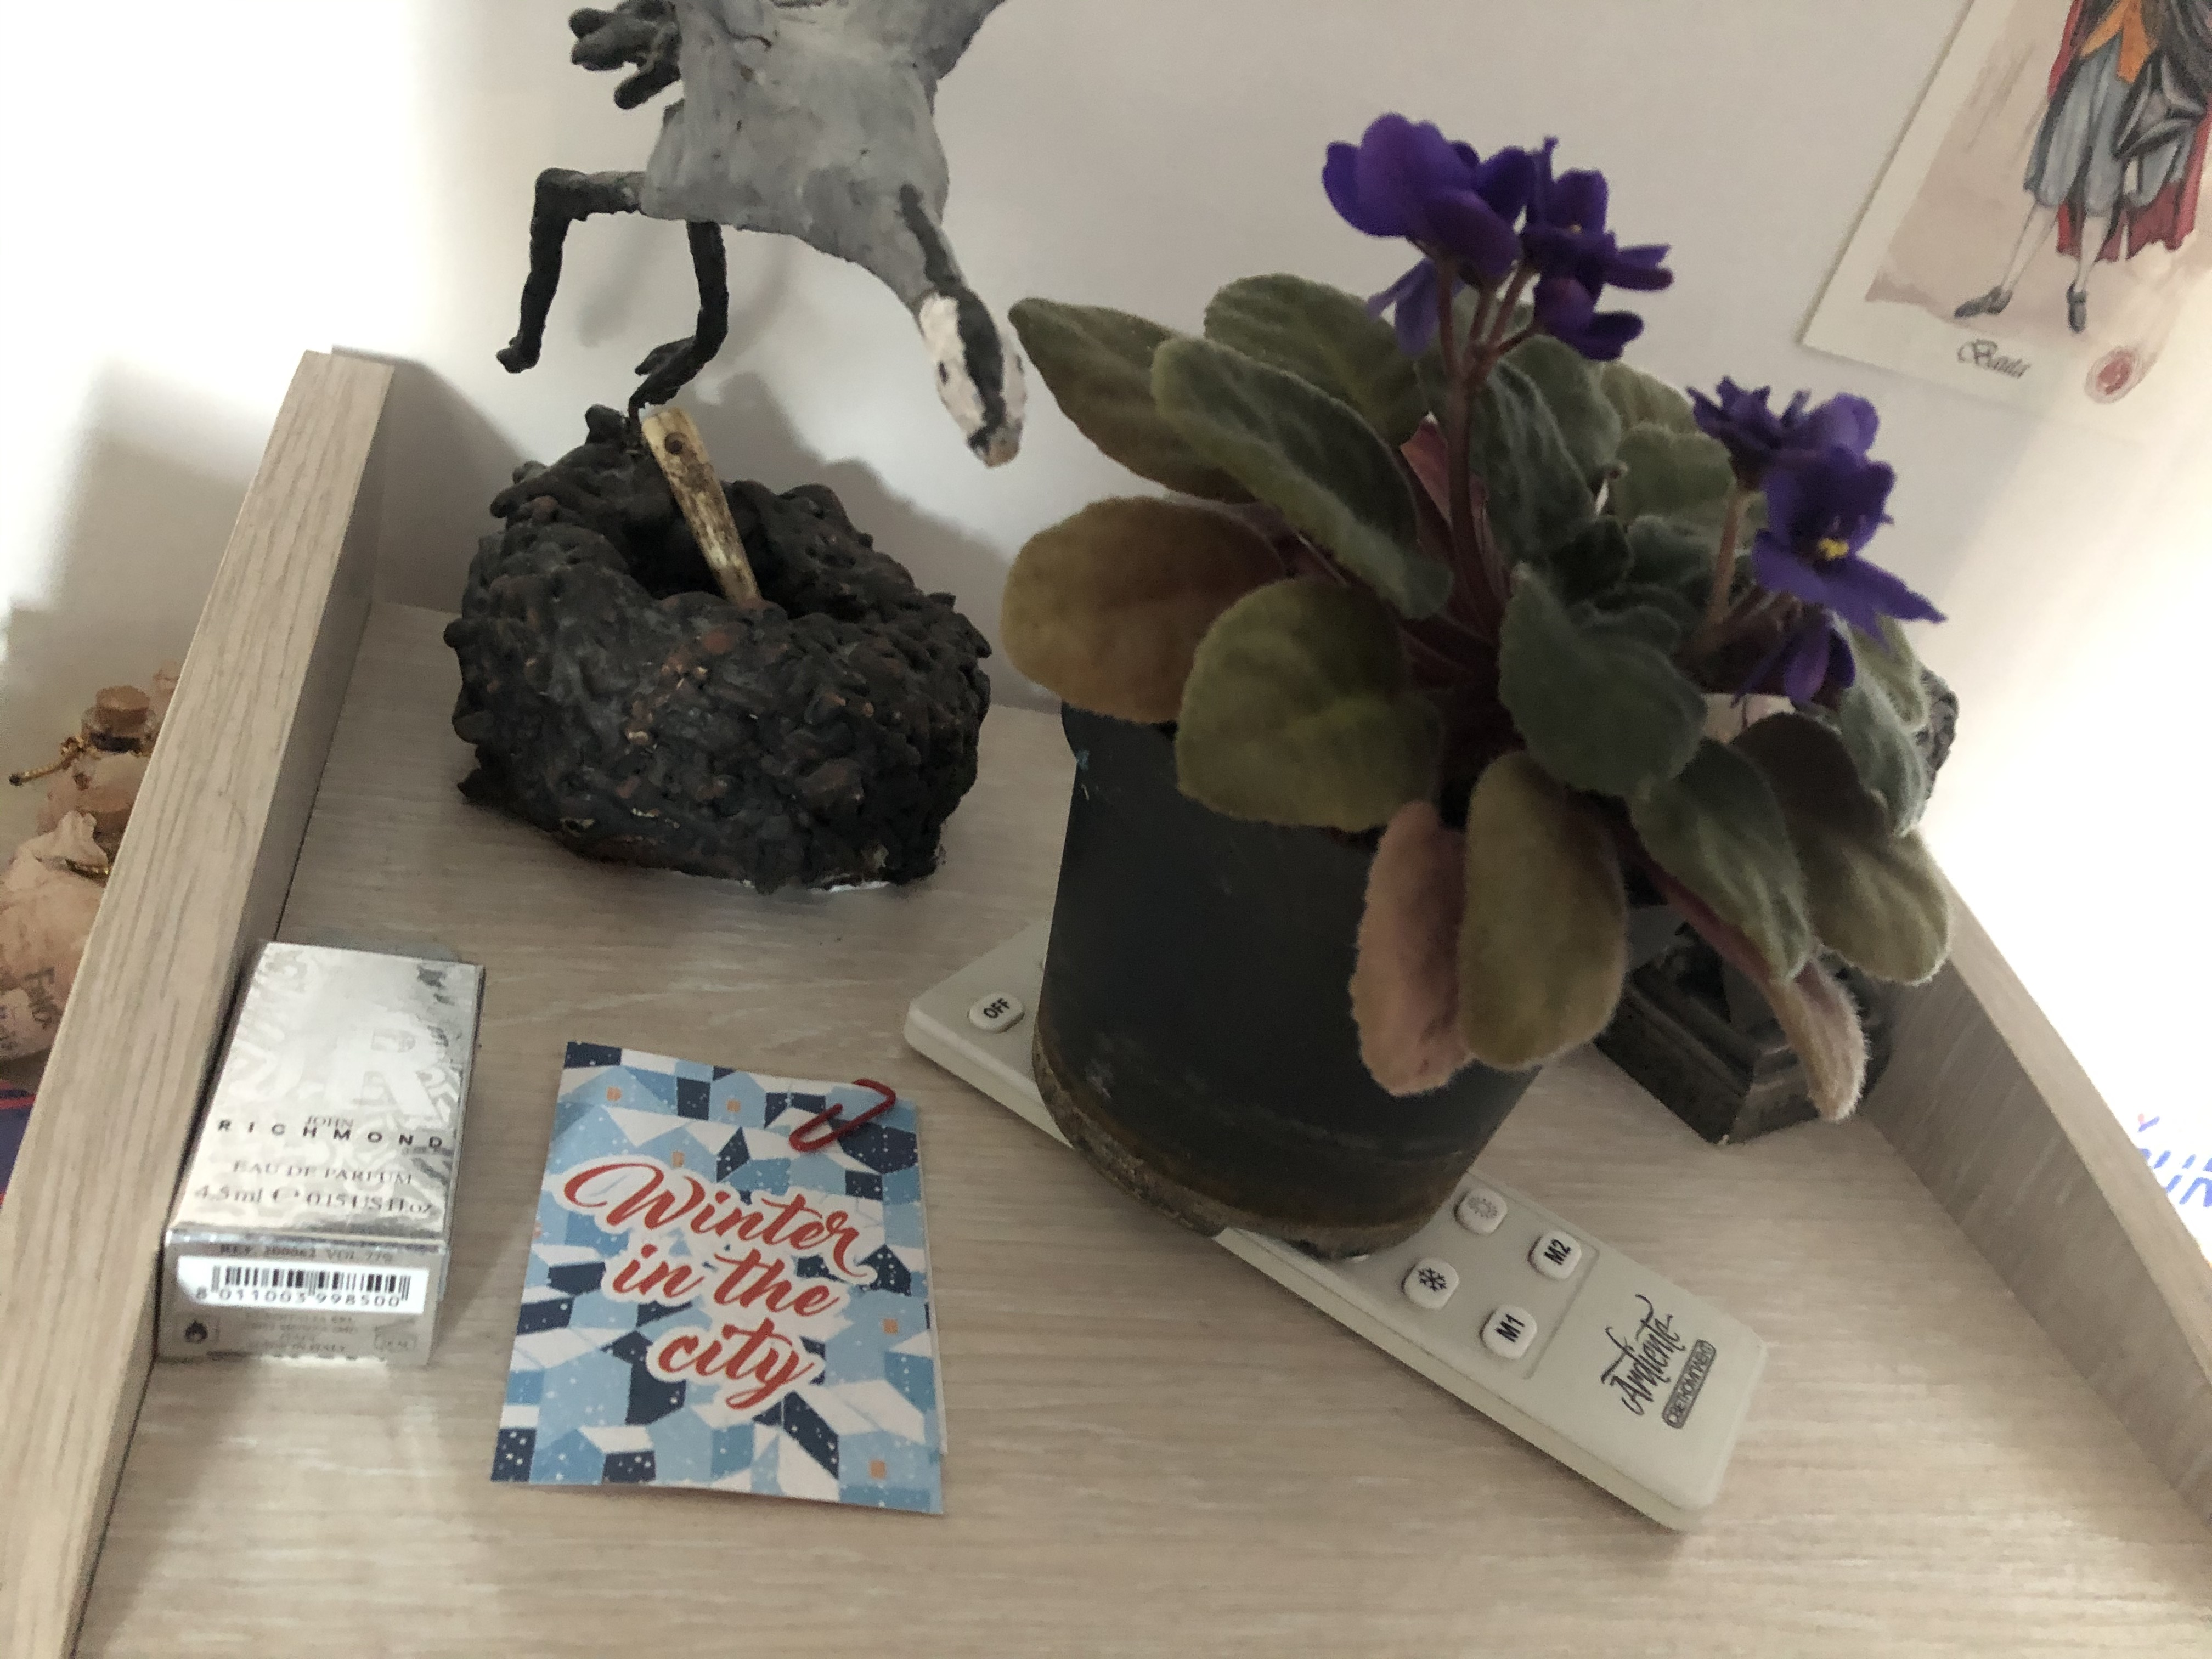ignore: (920, 17, 2020, 1134)
